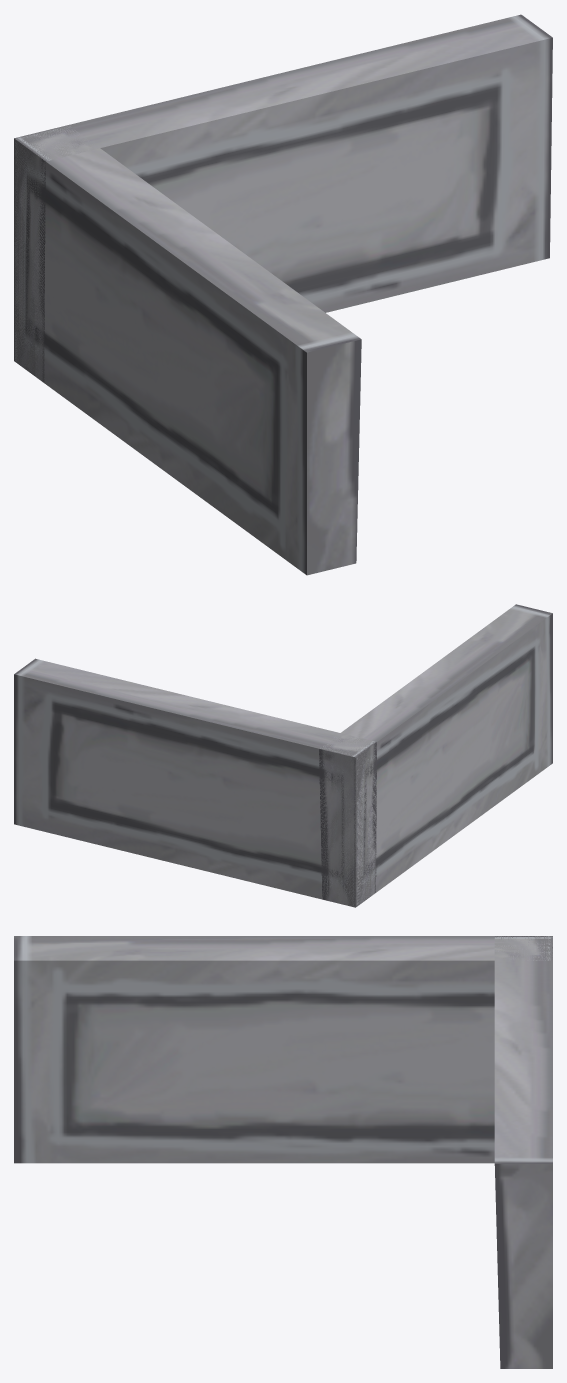
Rendered from e_throne_footer_corner.fbx.
3 views of the same model, one above another, from view 1: azimuth 30°, elevation 25°; view 2: azimuth 150°, elevation 25°; view 3: azimuth 270°, elevation 25° (orthographic). The views are drawn at different scales.
Visible parts, largest first — view 1: polySurface1513; view 2: polySurface1513; view 3: polySurface1513.
Boxes of the visible parts, bbox=[...] form: polySurface1513: bbox=[14, 14, 552, 575]; polySurface1513: bbox=[14, 604, 552, 907]; polySurface1513: bbox=[14, 936, 552, 1368].
Size of the model in its own units: 2.14 by 0.8967 by 2.14.
